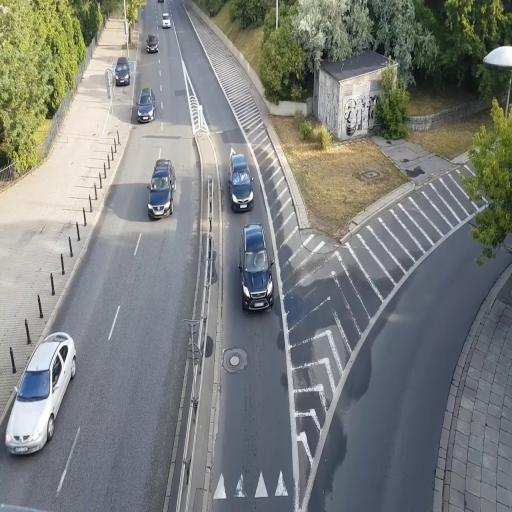vehicle: (5, 330, 77, 457), (240, 223, 274, 312), (148, 159, 174, 219), (136, 89, 156, 122), (114, 57, 130, 85), (146, 34, 158, 54)
